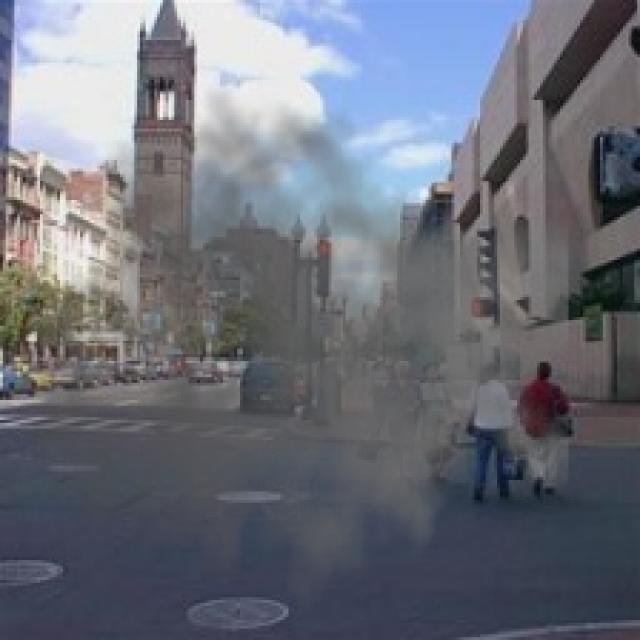Smoke: (17, 82, 572, 638)
